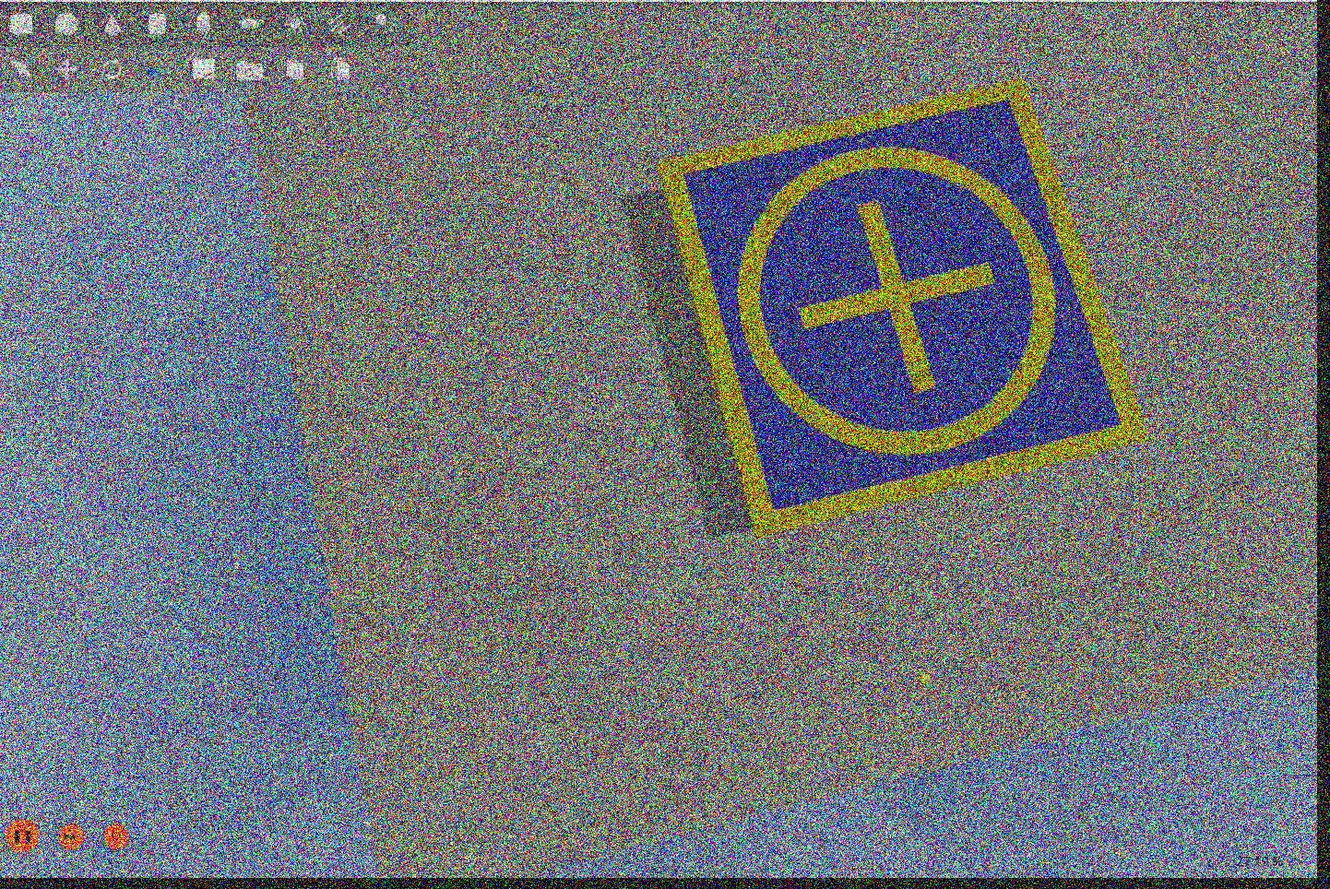small_base: (649, 81, 1160, 542)
